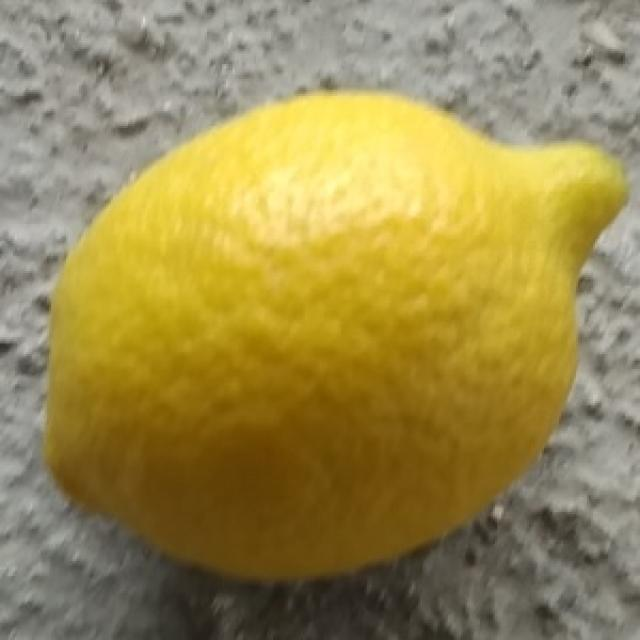Ripe: (36, 71, 631, 592)
